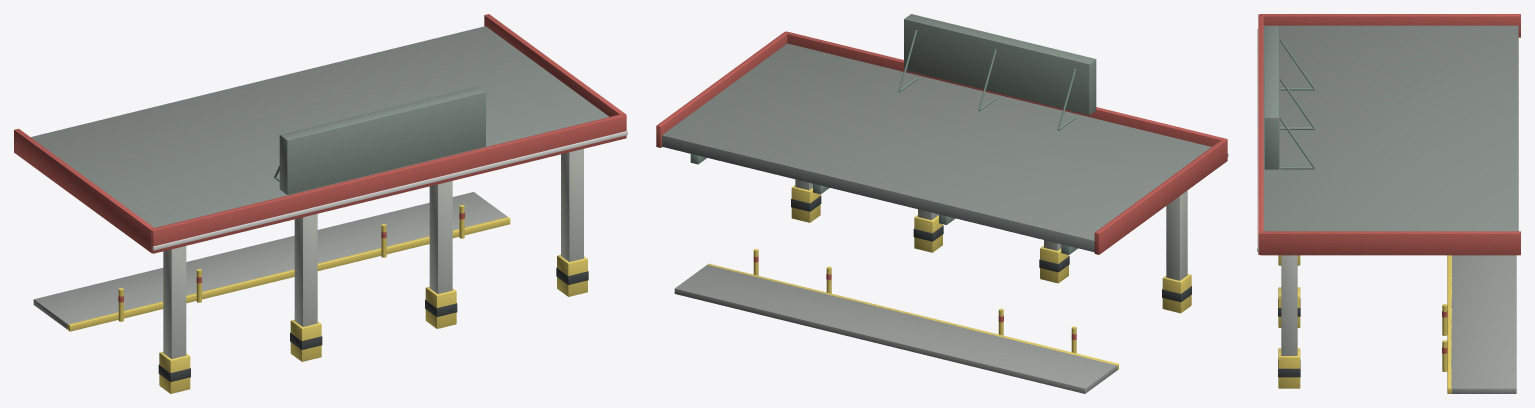
Rendered from CTCC_ENV_AmbulanceCanopy.fbx.
The picture shows the model from 3 angles, left to right: view 1: azimuth 30°, elevation 25°; view 2: azimuth 150°, elevation 25°; view 3: azimuth 270°, elevation 25°; orthographic projection. The views are drawn at different scales.
Visible parts, largest first — view 1: CTCC_ENV_AmbulanceCanopy_LOD0; view 2: CTCC_ENV_AmbulanceCanopy_LOD0; view 3: CTCC_ENV_AmbulanceCanopy_LOD0.
Part boxes in pixels (left/top/right/bottom): CTCC_ENV_AmbulanceCanopy_LOD0: left=14, top=14, right=627, bottom=393; CTCC_ENV_AmbulanceCanopy_LOD0: left=656, top=14, right=1228, bottom=393; CTCC_ENV_AmbulanceCanopy_LOD0: left=1257, top=14, right=1520, bottom=393.
Size of what is drawn, in the model's own units: 13.38 by 6.26 by 6.79.
